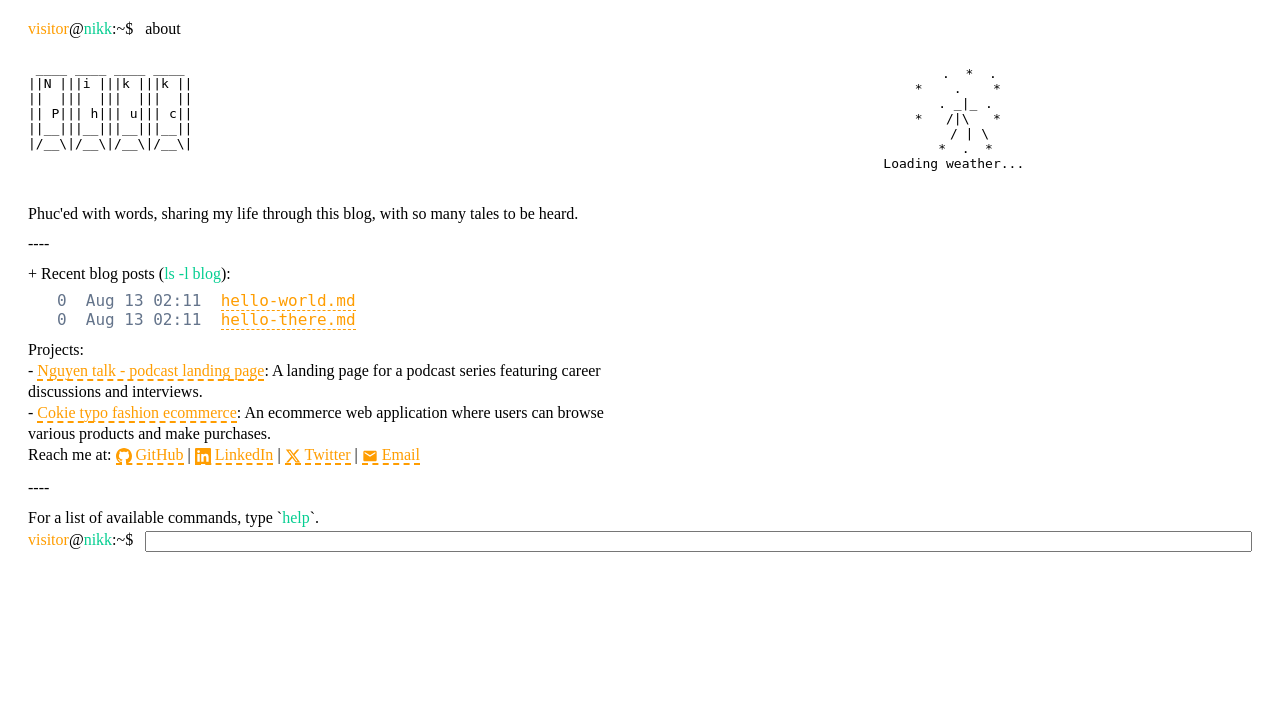
it: Terminal component › command execution › shows command not found for invalid commands
Type "invalidcmd" into the field titled "terminal-input" at (699, 542), box [145,531,1252,552]
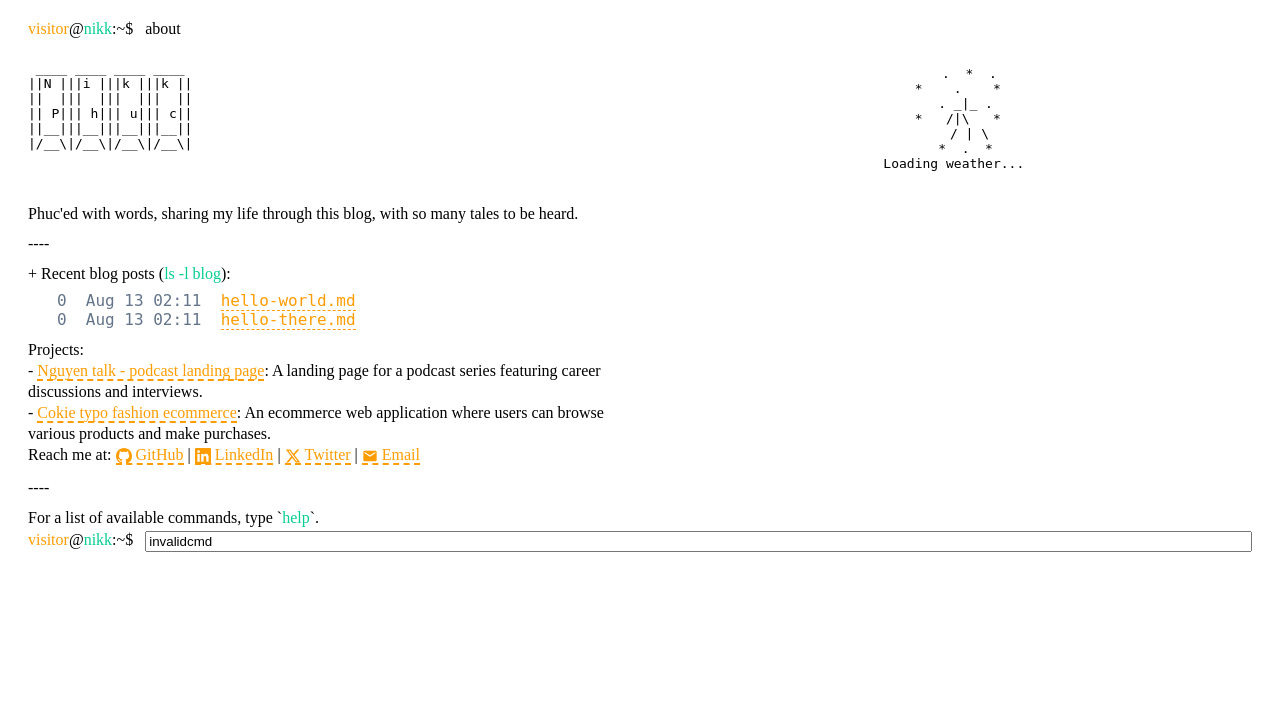
Submit the form titled "terminal-input", box [28,531,1252,552]
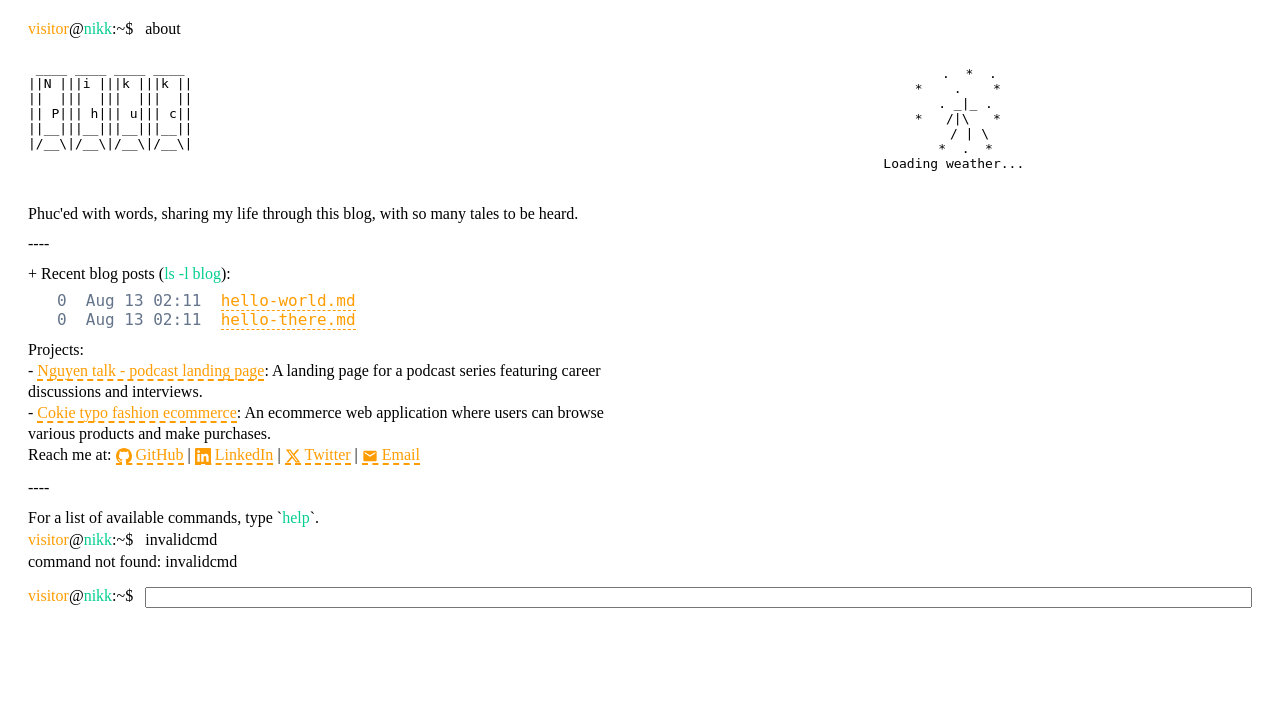
Now the text "command not found: invalidcmd" is shown, box [28,553,237,570]
